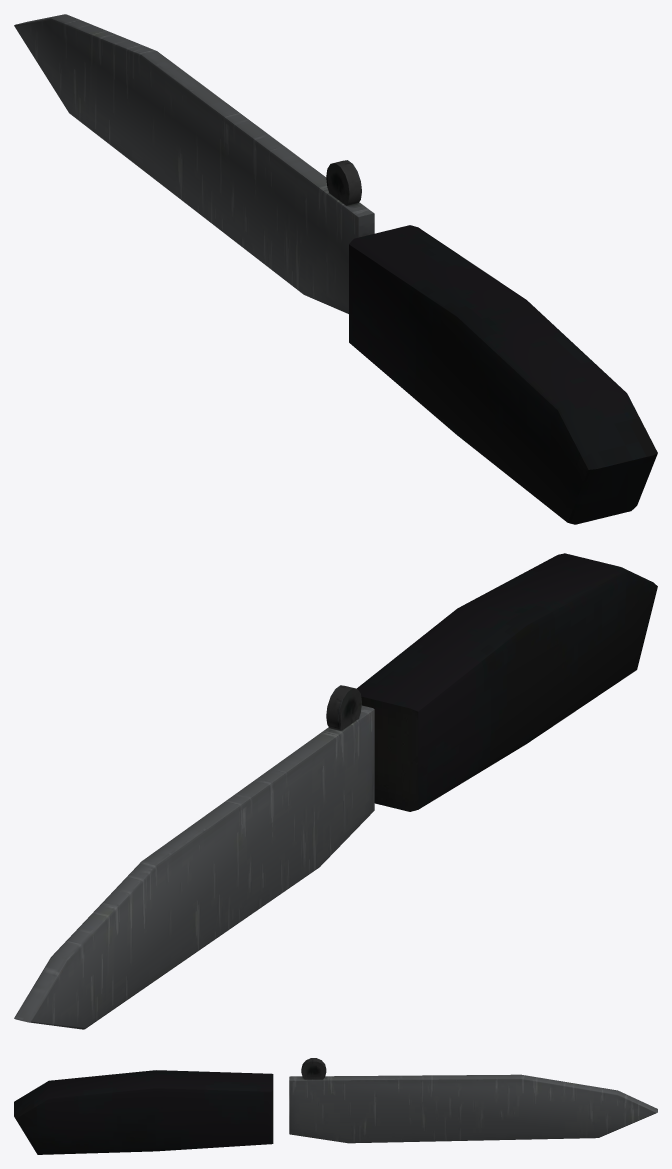
Rendered from knife_ursus.glb.
The picture shows the model from 3 angles, top to bottom: view 1: azimuth 30°, elevation 25°; view 2: azimuth 150°, elevation 25°; view 3: azimuth 270°, elevation 25°; orthographic projection. The views are drawn at different scales.
Parts seen in each view (by area): view 1: body_metal, body_receiver; view 2: body_metal, body_receiver; view 3: body_receiver, body_metal.
Boxes of the visible parts, bbox=[...] form: body_metal: bbox=[349, 225, 657, 524]; body_receiver: bbox=[14, 14, 374, 313]; body_metal: bbox=[357, 553, 657, 811]; body_receiver: bbox=[14, 685, 374, 1029]; body_receiver: bbox=[289, 1058, 657, 1143]; body_metal: bbox=[14, 1070, 273, 1154].
Bounding box in the file's own units: 0.024 × 0.0504 × 0.335.
2 materials, 2 textured.
